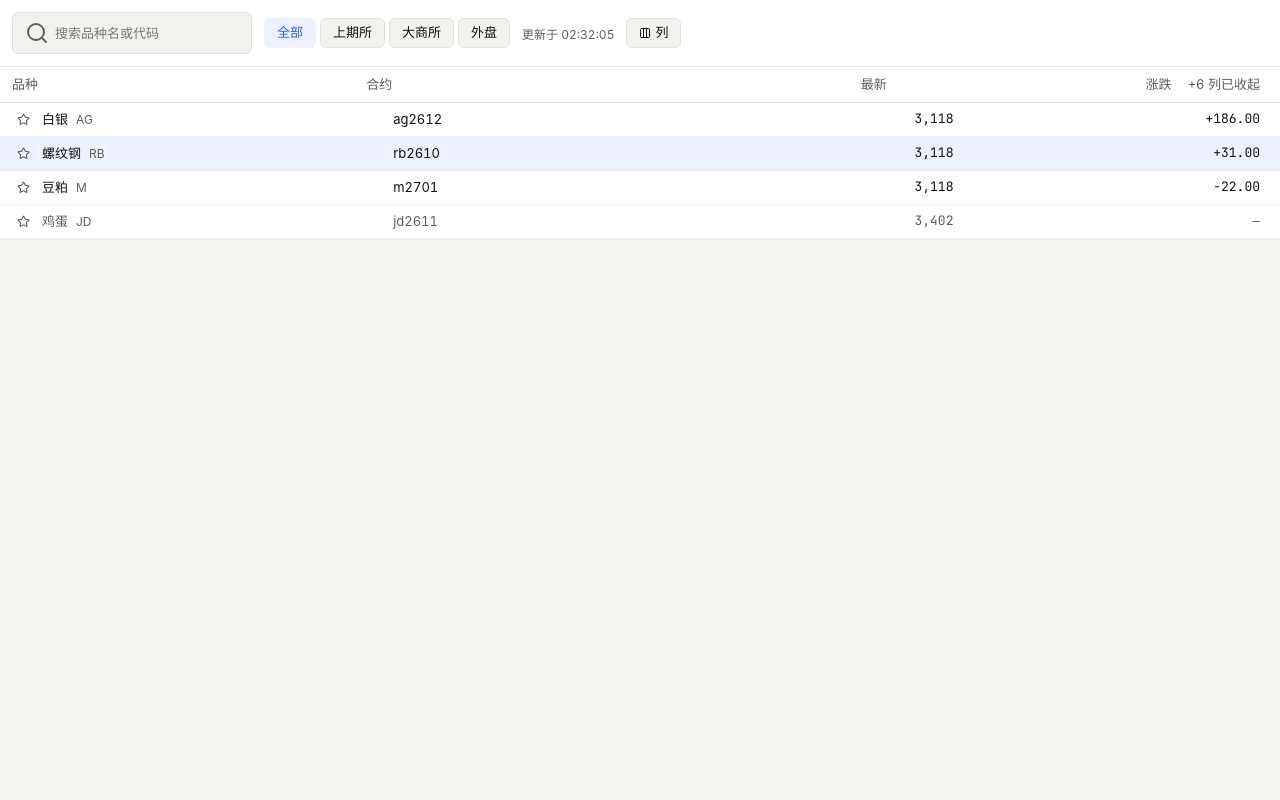
Scenario: a narrow board folds the tail of the column list and the hint opens the popover
The width and height of the screenshot is (1280, 800).
Check: the text "持仓量" is not shown
Check: the 2nd text "3,118" is shown, box [914,144,953,161]
Click the button "+6 列已收起".
click(1224, 85)  # box [1180,67,1268,102]
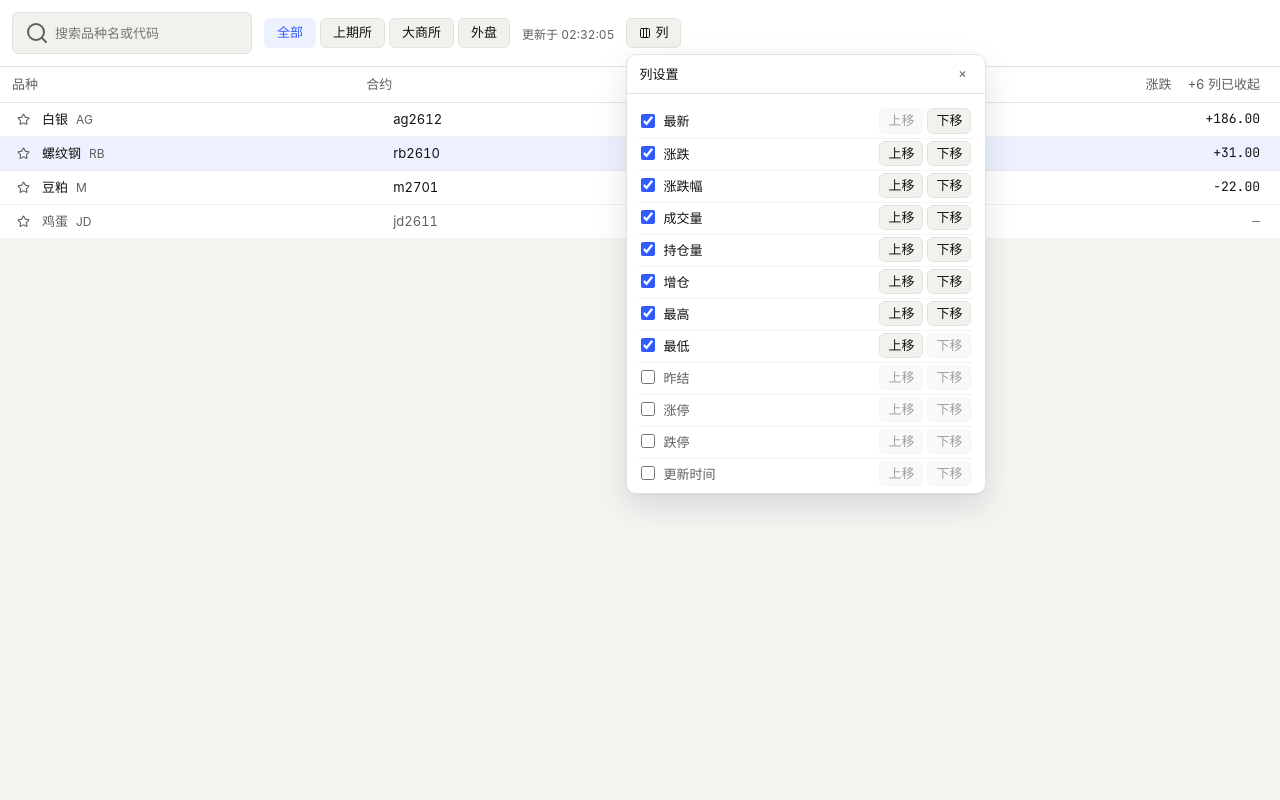
Check: the dialog "列设置" is shown, box [626,54,986,494]
